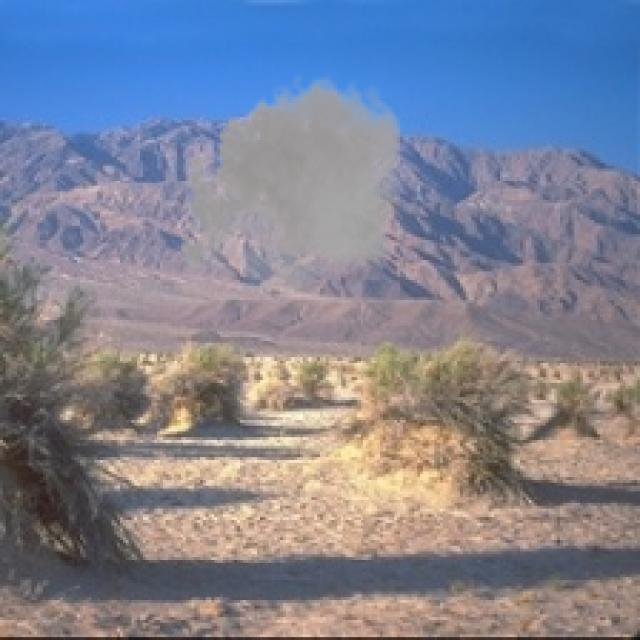smoke: (172, 69, 412, 308)
